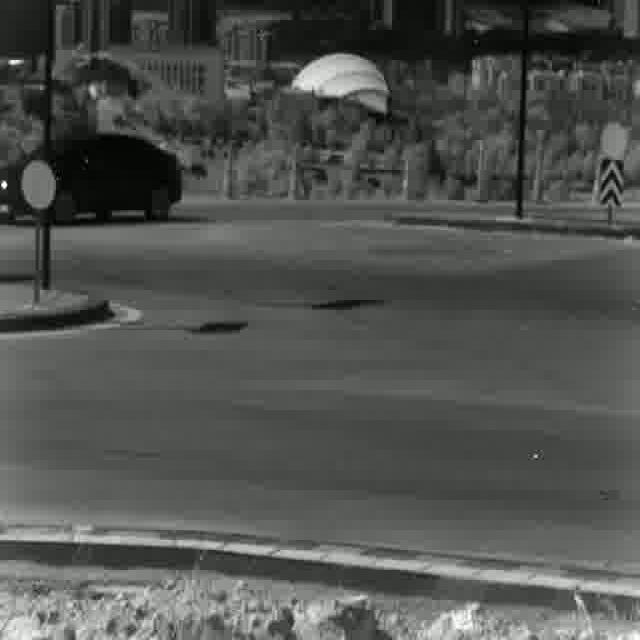Car: (0, 131, 179, 224)
